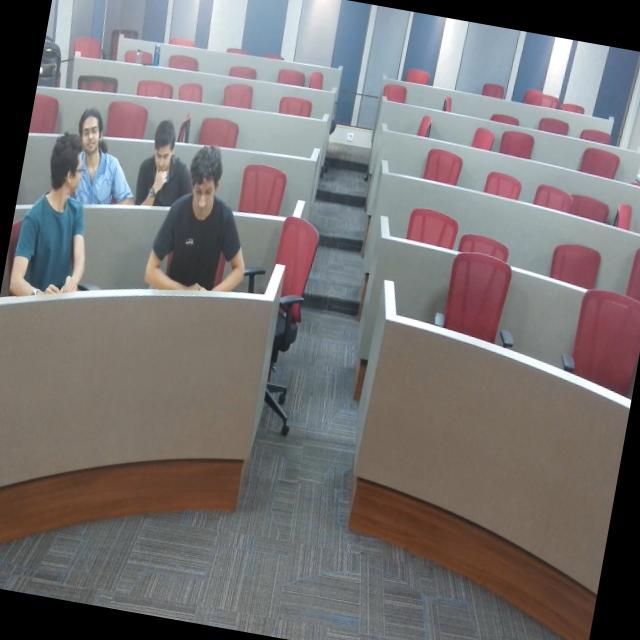cheating: (0, 135, 94, 337)
non-cheating: (130, 108, 192, 212)
